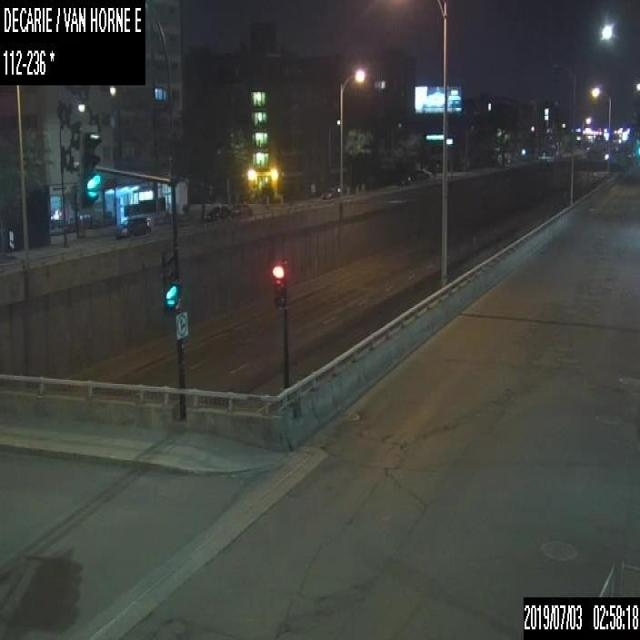construction: (264, 195, 268, 208)
vehicle: (116, 217, 150, 236), (321, 182, 348, 200), (204, 204, 230, 220), (230, 202, 250, 216), (410, 168, 430, 178)
